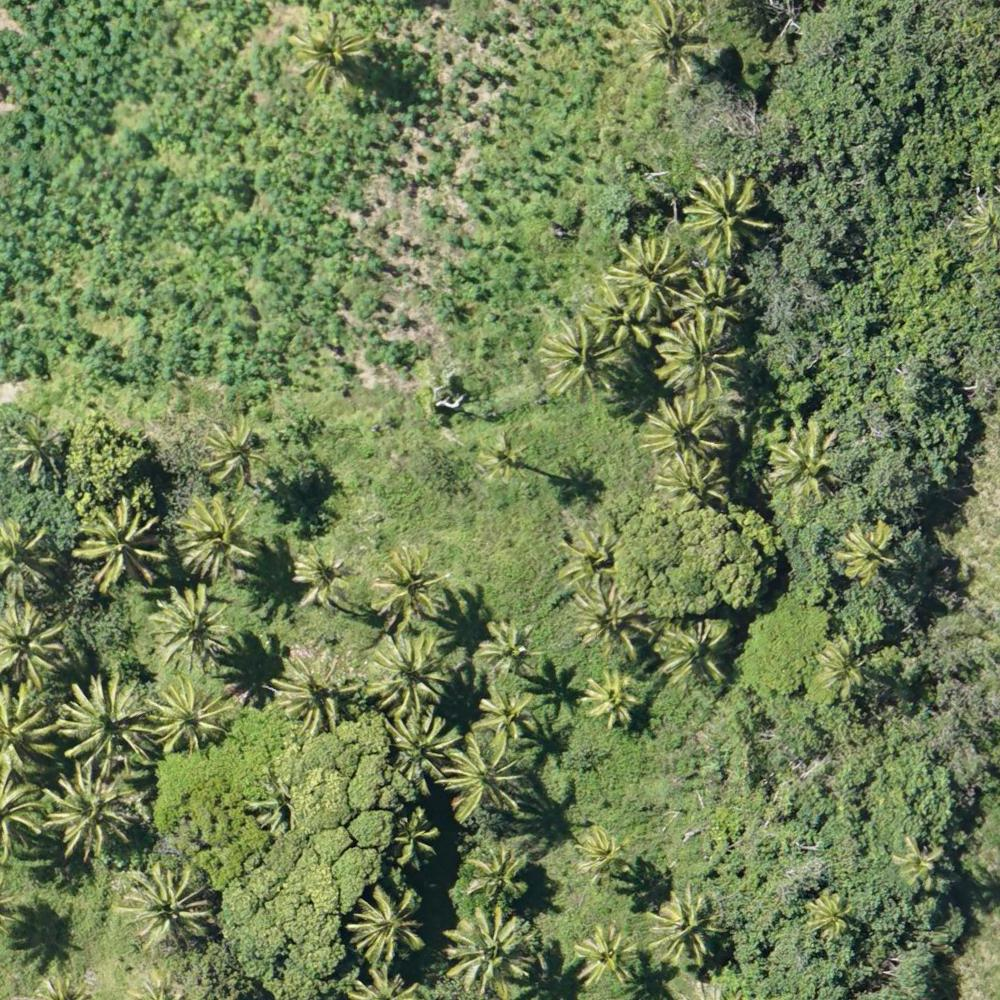Palm: (50, 760, 139, 856), (682, 168, 775, 259), (126, 860, 218, 945), (79, 497, 164, 589), (443, 908, 536, 992), (448, 736, 533, 823), (271, 647, 359, 731), (656, 314, 745, 394), (536, 313, 622, 395), (175, 494, 256, 580), (152, 588, 233, 671), (1, 602, 71, 696), (365, 635, 446, 715), (768, 424, 846, 505), (635, 4, 716, 81), (383, 708, 457, 790), (291, 13, 375, 85), (609, 236, 684, 316), (348, 881, 425, 958), (150, 676, 230, 750), (646, 395, 730, 464), (370, 543, 446, 616), (568, 575, 642, 649), (200, 413, 270, 491), (651, 891, 725, 963), (557, 523, 631, 592), (662, 619, 732, 689), (674, 265, 743, 333), (578, 669, 649, 732), (656, 451, 730, 510), (463, 839, 529, 901), (574, 925, 639, 986), (837, 521, 904, 579), (291, 547, 353, 606), (479, 619, 539, 677), (891, 833, 945, 888), (473, 686, 533, 735), (574, 821, 624, 878), (821, 638, 869, 697), (803, 894, 854, 939)
